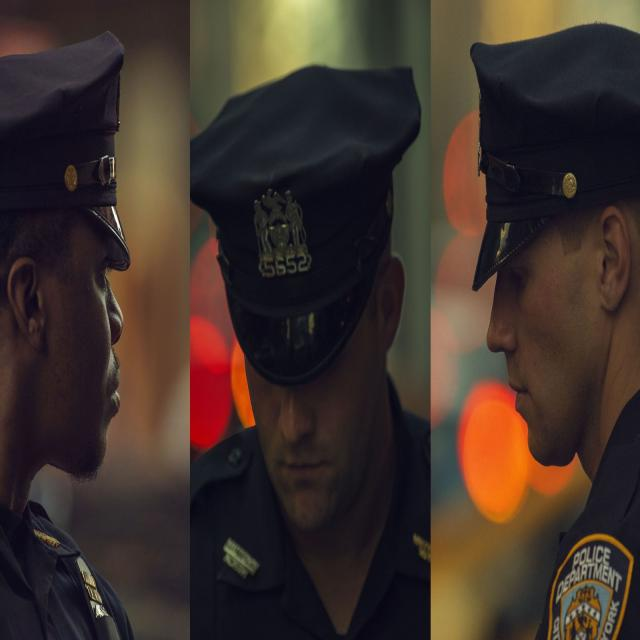police: (164, 44, 434, 640), (451, 23, 640, 640), (0, 31, 131, 640)
